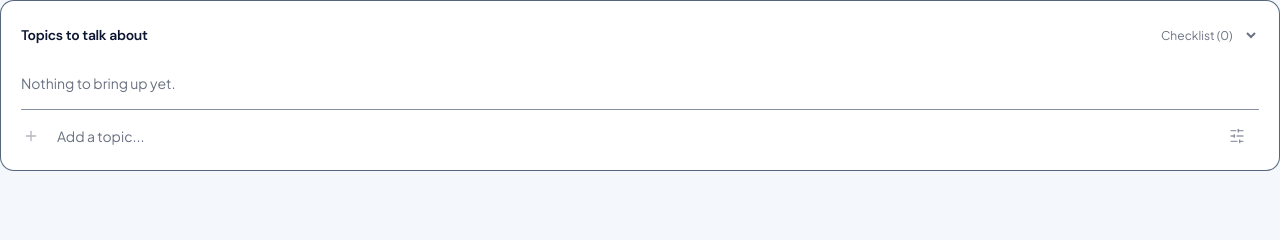
topics panel › keeps capture options tucked away until requested and saves selected options
The width and height of the screenshot is (1280, 240).
Click the button named "New topic options" at [1237, 136], box [1215,114,1259,158]
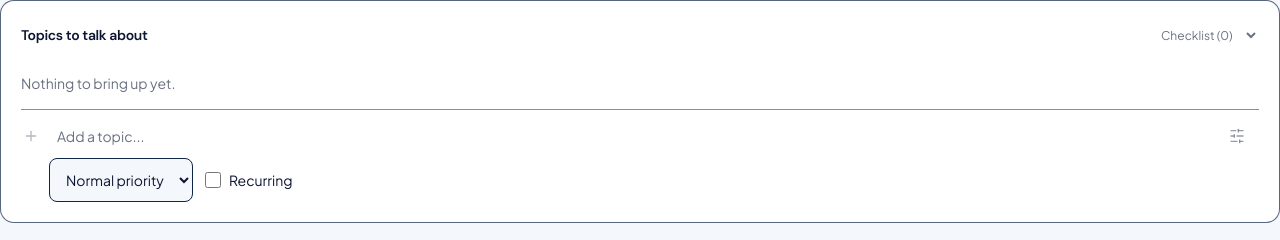
Select "High priority" in the dropdown named "New topic priority" at [121, 180], box [49,158,193,202]
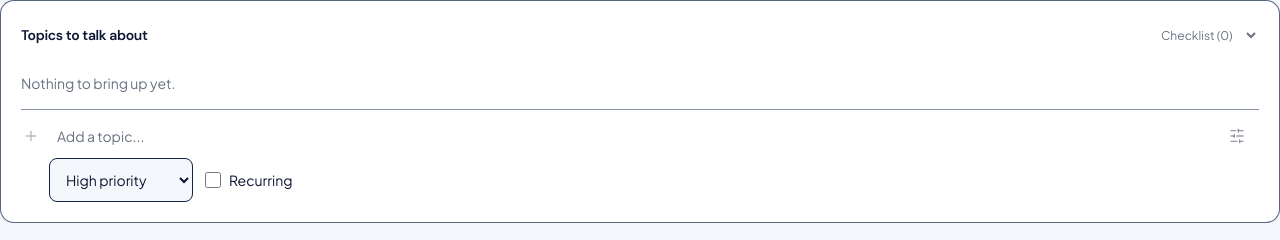
Click the checkbox labelled "Recurring" at [213, 180], box [205,172,221,188]
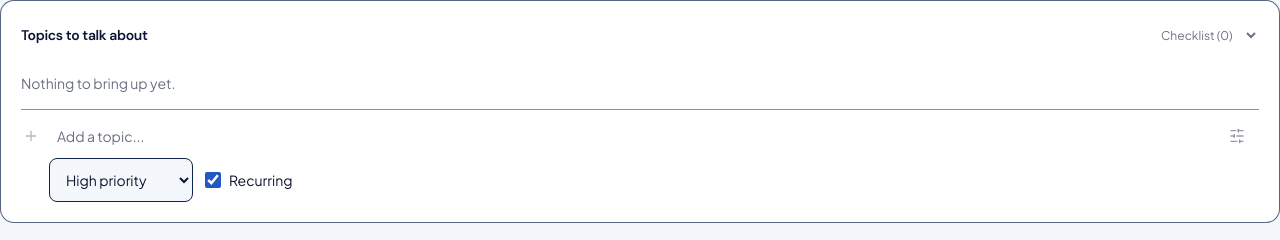
Type "Weekly check-in" into the field named "New topic" at [634, 136], box [57,114,1211,158]
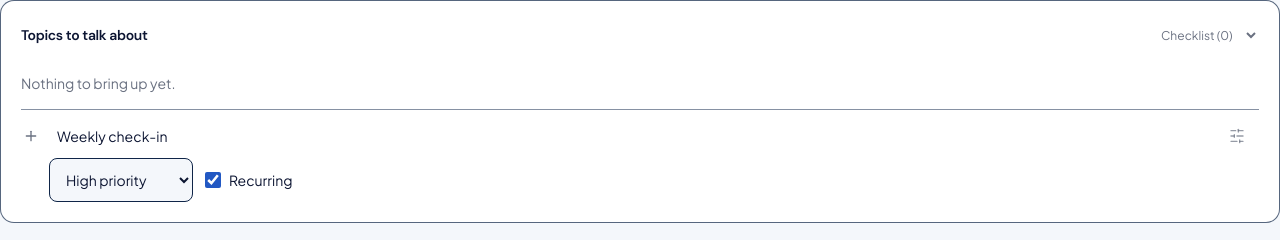
Click the button named "Add topic" at [31, 136], box [9,114,53,158]
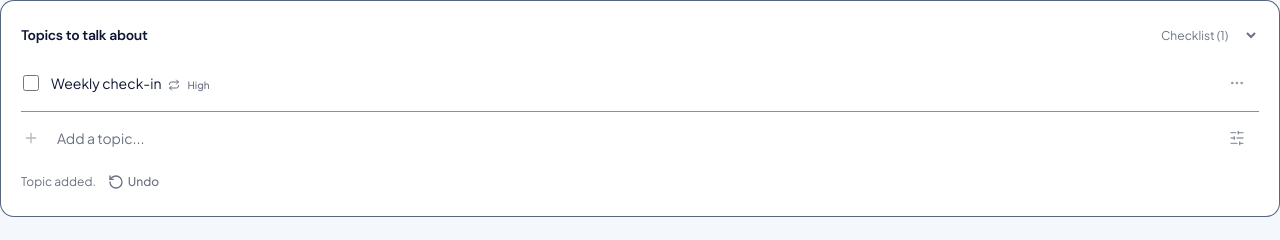
Result: the text "Topic added." is shown at [21,174,96,190]
